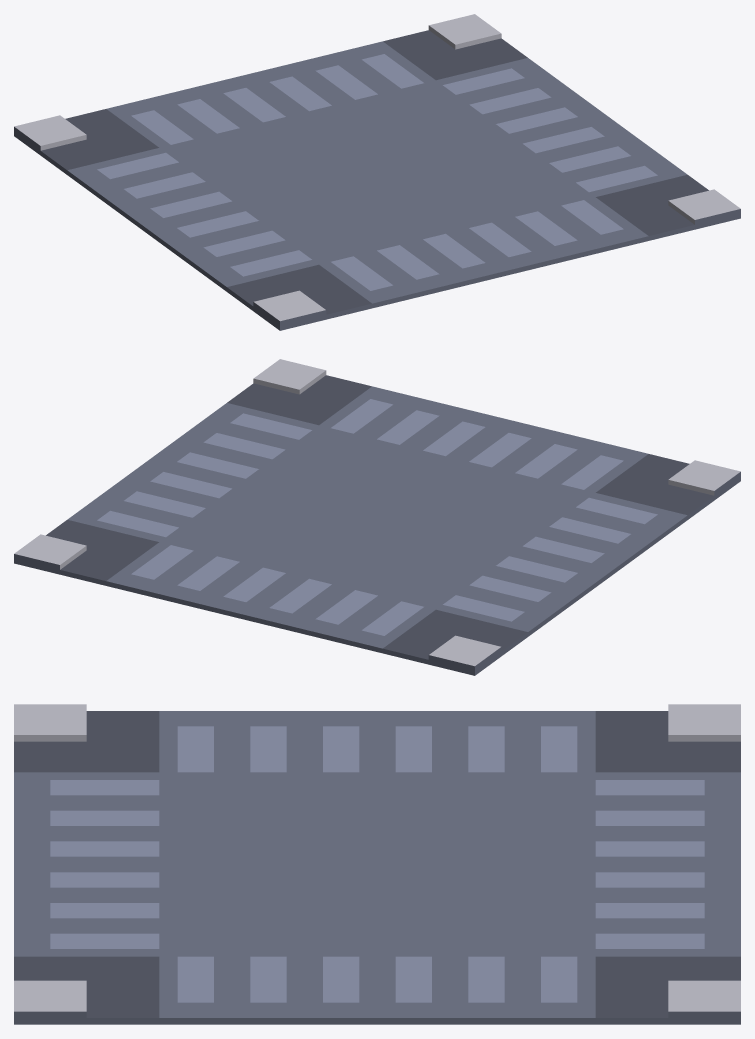
File: road_crossroadPath.fbx
3 renders of one model, top to bottom at view 1: azimuth 30°, elevation 25°; view 2: azimuth 150°, elevation 25°; view 3: azimuth 270°, elevation 25°, orthographic. The views are drawn at different scales.
Visible parts, largest first — view 1: road_crossroadPath; view 2: road_crossroadPath; view 3: road_crossroadPath.
Part boxes in pixels (x1,y1,x2,y2): road_crossroadPath: (14,14,740,330); road_crossroadPath: (14,359,740,675); road_crossroadPath: (14,704,740,1024).
Bounding box in the file's own units: 10 × 0.2 × 10.
